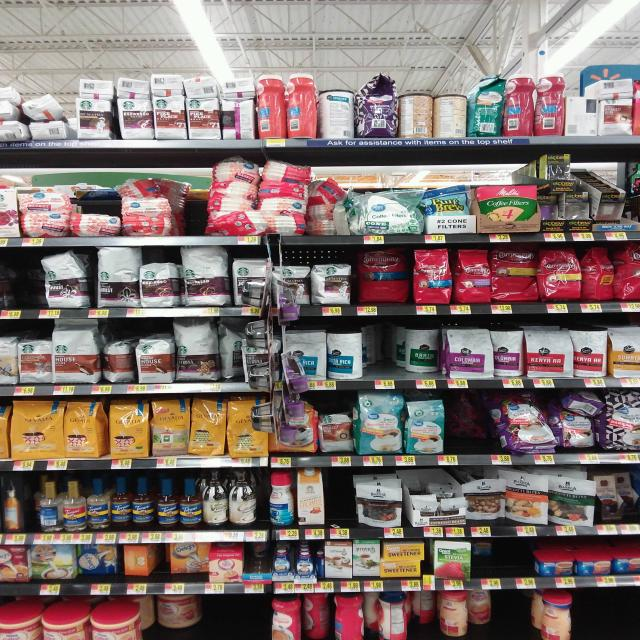void: (0, 255, 38, 319), (367, 323, 403, 389), (326, 470, 354, 539), (493, 589, 526, 640), (577, 590, 609, 640), (472, 540, 504, 589), (200, 596, 234, 640), (506, 539, 535, 590), (236, 594, 268, 640), (612, 591, 640, 640)
